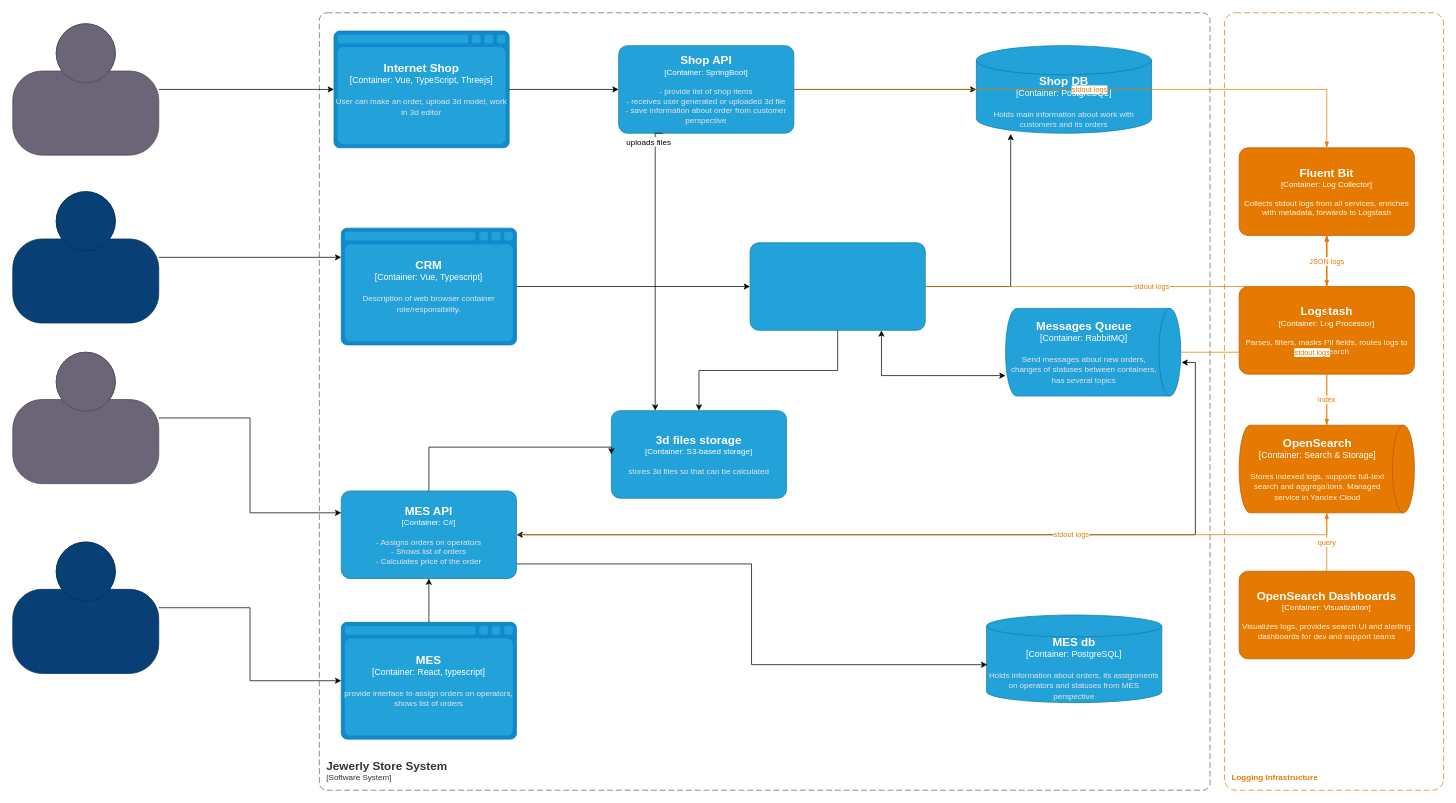
The diagram is 1456 pixels wide and 803 high, and some of its shapes have lost their labels. Each missing label, with the centre of its shape:
API user [Person] Description of external person.: (85,417)
CRM API [Container: SpringBoot] Description of container role/responsibility.: (837,286)
Customer [Person] Description of external person.: (85,89)
Operator [Person] Takes order in work, manufactures jewerly: (85,607)
Seller [Person] Operates with order, confirms manufacturing for the user: (85,257)
